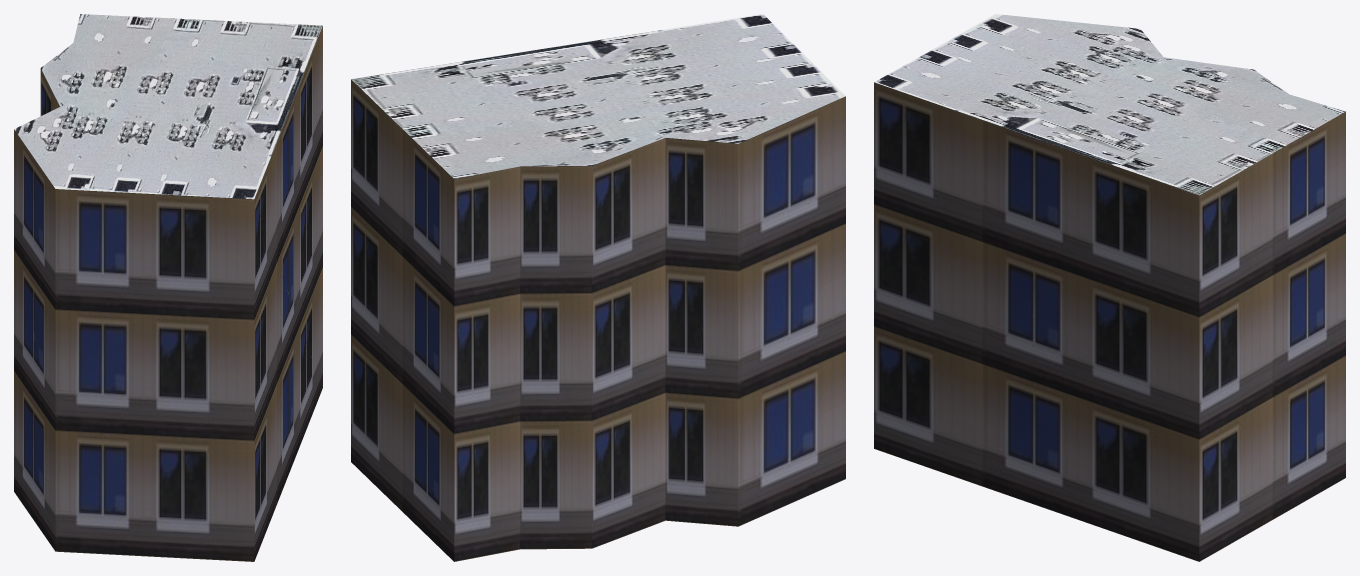
Rendered from ResTex__4502.fbx.
3 renders of one model, left to right at view 1: azimuth 30°, elevation 25°; view 2: azimuth 150°, elevation 25°; view 3: azimuth 270°, elevation 25°, orthographic. The views are drawn at different scales.
Visible parts, largest first — view 1: CityEngineMaterial_5_m, CityEngineMaterial_m; view 2: CityEngineMaterial_5_m, CityEngineMaterial_m; view 3: CityEngineMaterial_5_m, CityEngineMaterial_m.
Boxes of the visible parts, <box> form: CityEngineMaterial_5_m: <box>14,26,322,561</box>; CityEngineMaterial_m: <box>14,14,322,199</box>; CityEngineMaterial_5_m: <box>351,79,845,561</box>; CityEngineMaterial_m: <box>351,14,845,178</box>; CityEngineMaterial_5_m: <box>874,82,1345,561</box>; CityEngineMaterial_m: <box>874,14,1345,195</box>.
Size of the model in its own units: 9.56 by 9 by 10.5.
Materials: 2 (2 with a texture image).
